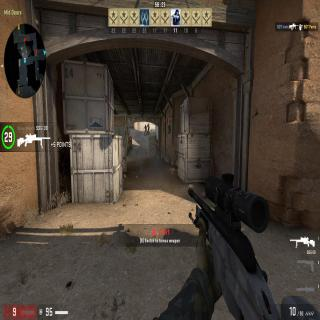T-Body: (155, 139, 160, 158), (128, 134, 133, 150), (147, 123, 150, 136), (145, 124, 147, 136)
T-Head: (156, 139, 158, 143), (130, 134, 131, 138), (145, 124, 146, 126), (148, 123, 148, 125)
